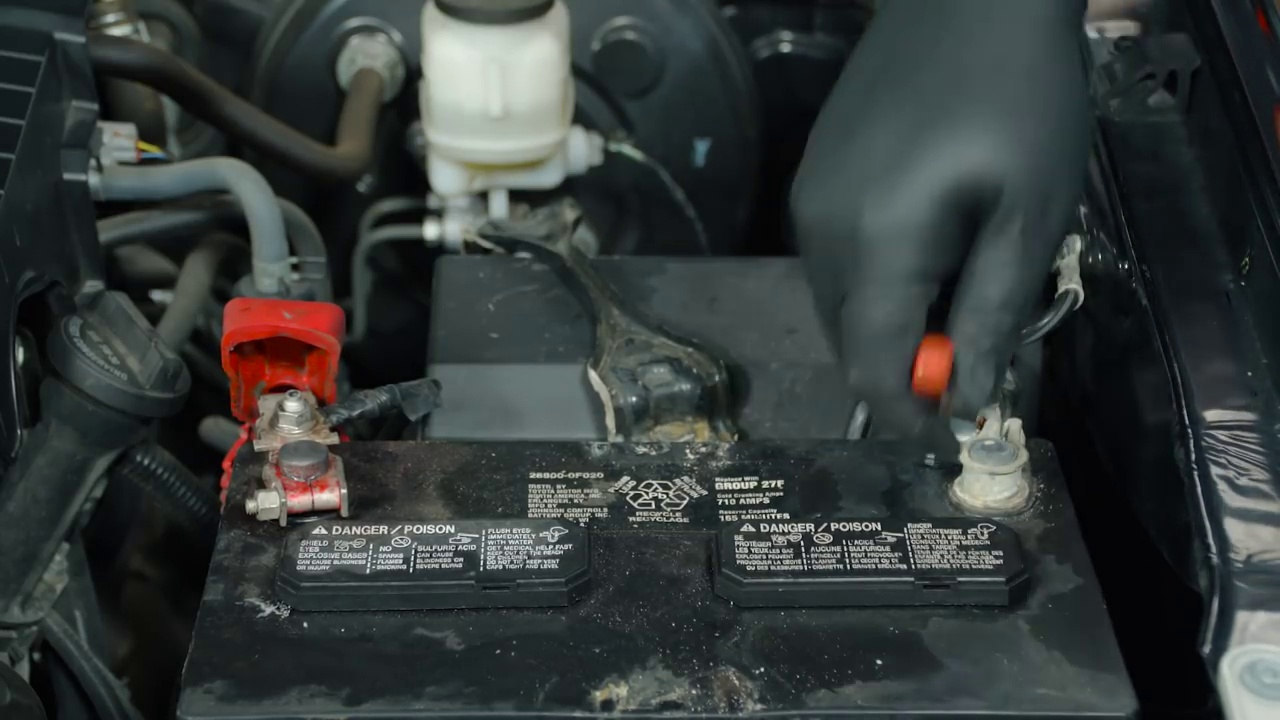battery: (213, 354, 1110, 677)
neg_disconnected: (914, 380, 1043, 515)
neg_touched: (830, 226, 1065, 510)
pos_connected: (206, 294, 364, 543)
